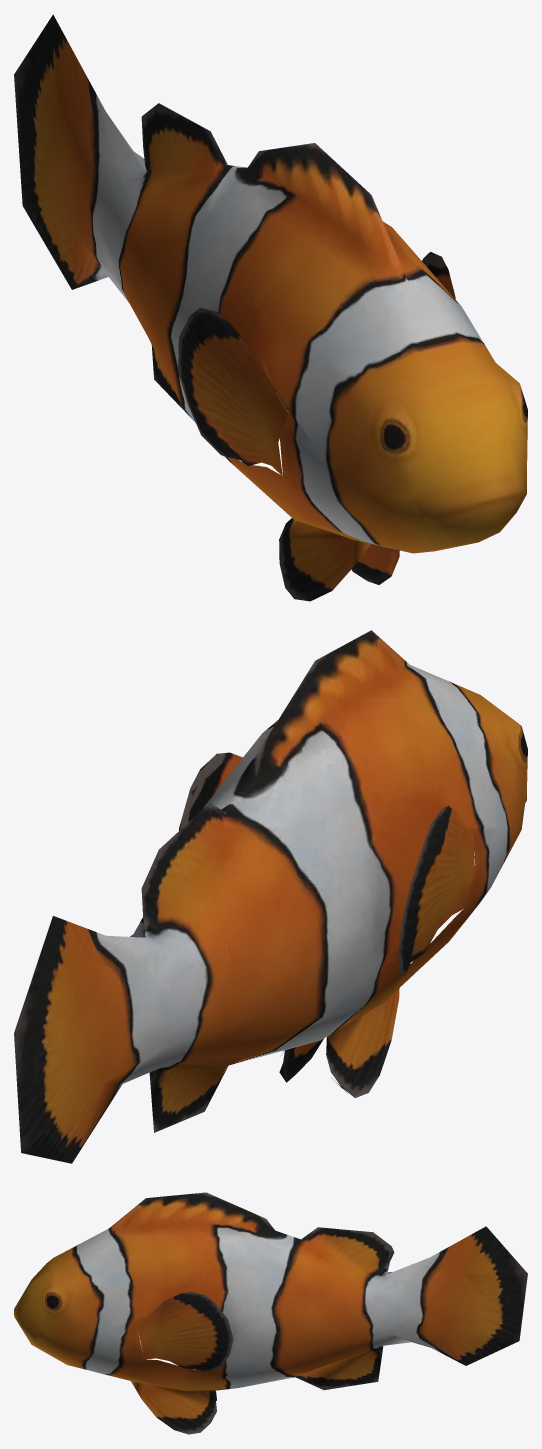
The model's file is peixe-palhaco.glb.
3 views of the same model, one above another, from view 1: azimuth 30°, elevation 25°; view 2: azimuth 150°, elevation 25°; view 3: azimuth 270°, elevation 25° (orthographic). The views are drawn at different scales.
Visible parts, largest first — view 1: peixe-palhaco; view 2: peixe-palhaco; view 3: peixe-palhaco.
Part boxes in pixels (x1,y1,x2,y2): peixe-palhaco: (14, 14, 527, 601); peixe-palhaco: (14, 630, 527, 1163); peixe-palhaco: (14, 1192, 527, 1434).
Size of the model in its own units: 0.0575 by 0.1001 by 0.2004.
Materials: 1 (1 with a texture image).
